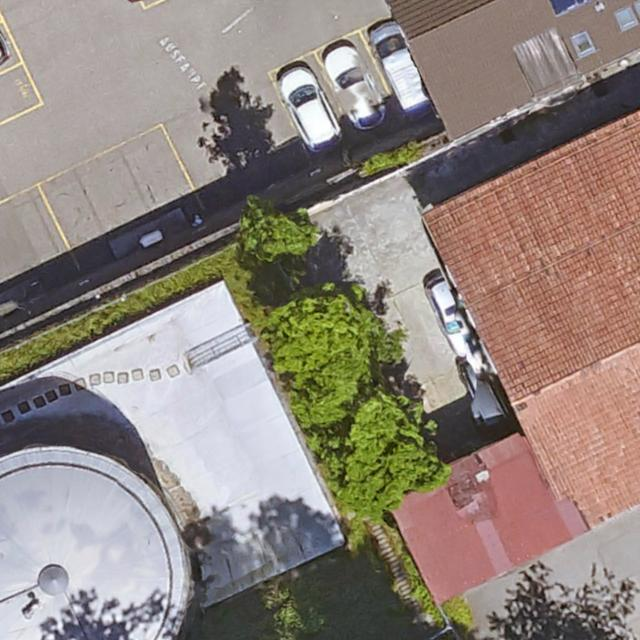tree: (290, 383, 454, 521), (261, 294, 387, 394), (231, 205, 324, 270)
